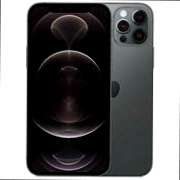samsung: (50, 16, 128, 164)
